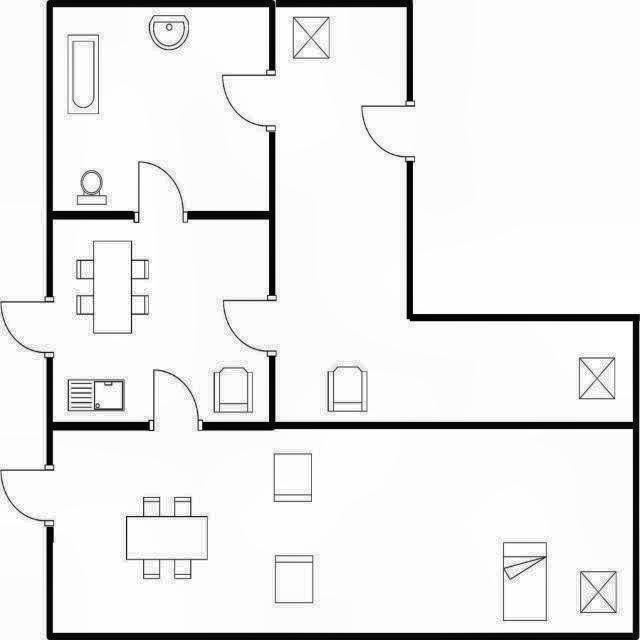room: (275, 7, 633, 422), (53, 430, 633, 633), (53, 7, 269, 211), (53, 219, 269, 422)
